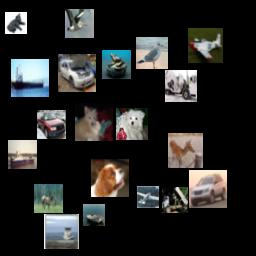airplane: (188, 28, 223, 63), (137, 186, 159, 208)
automobile: (58, 54, 96, 92), (189, 170, 227, 208), (37, 110, 66, 139)
bird: (136, 37, 168, 69), (65, 9, 94, 38)
cat: (44, 214, 79, 249), (5, 12, 27, 34)
deer: (168, 133, 203, 168), (34, 184, 63, 213)
dog: (91, 159, 129, 197), (75, 103, 113, 141), (116, 108, 148, 140)
frog: (102, 50, 131, 79)
ship: (11, 59, 49, 97), (8, 140, 37, 169), (83, 204, 105, 226)
truck: (165, 70, 197, 102), (162, 187, 188, 213)
